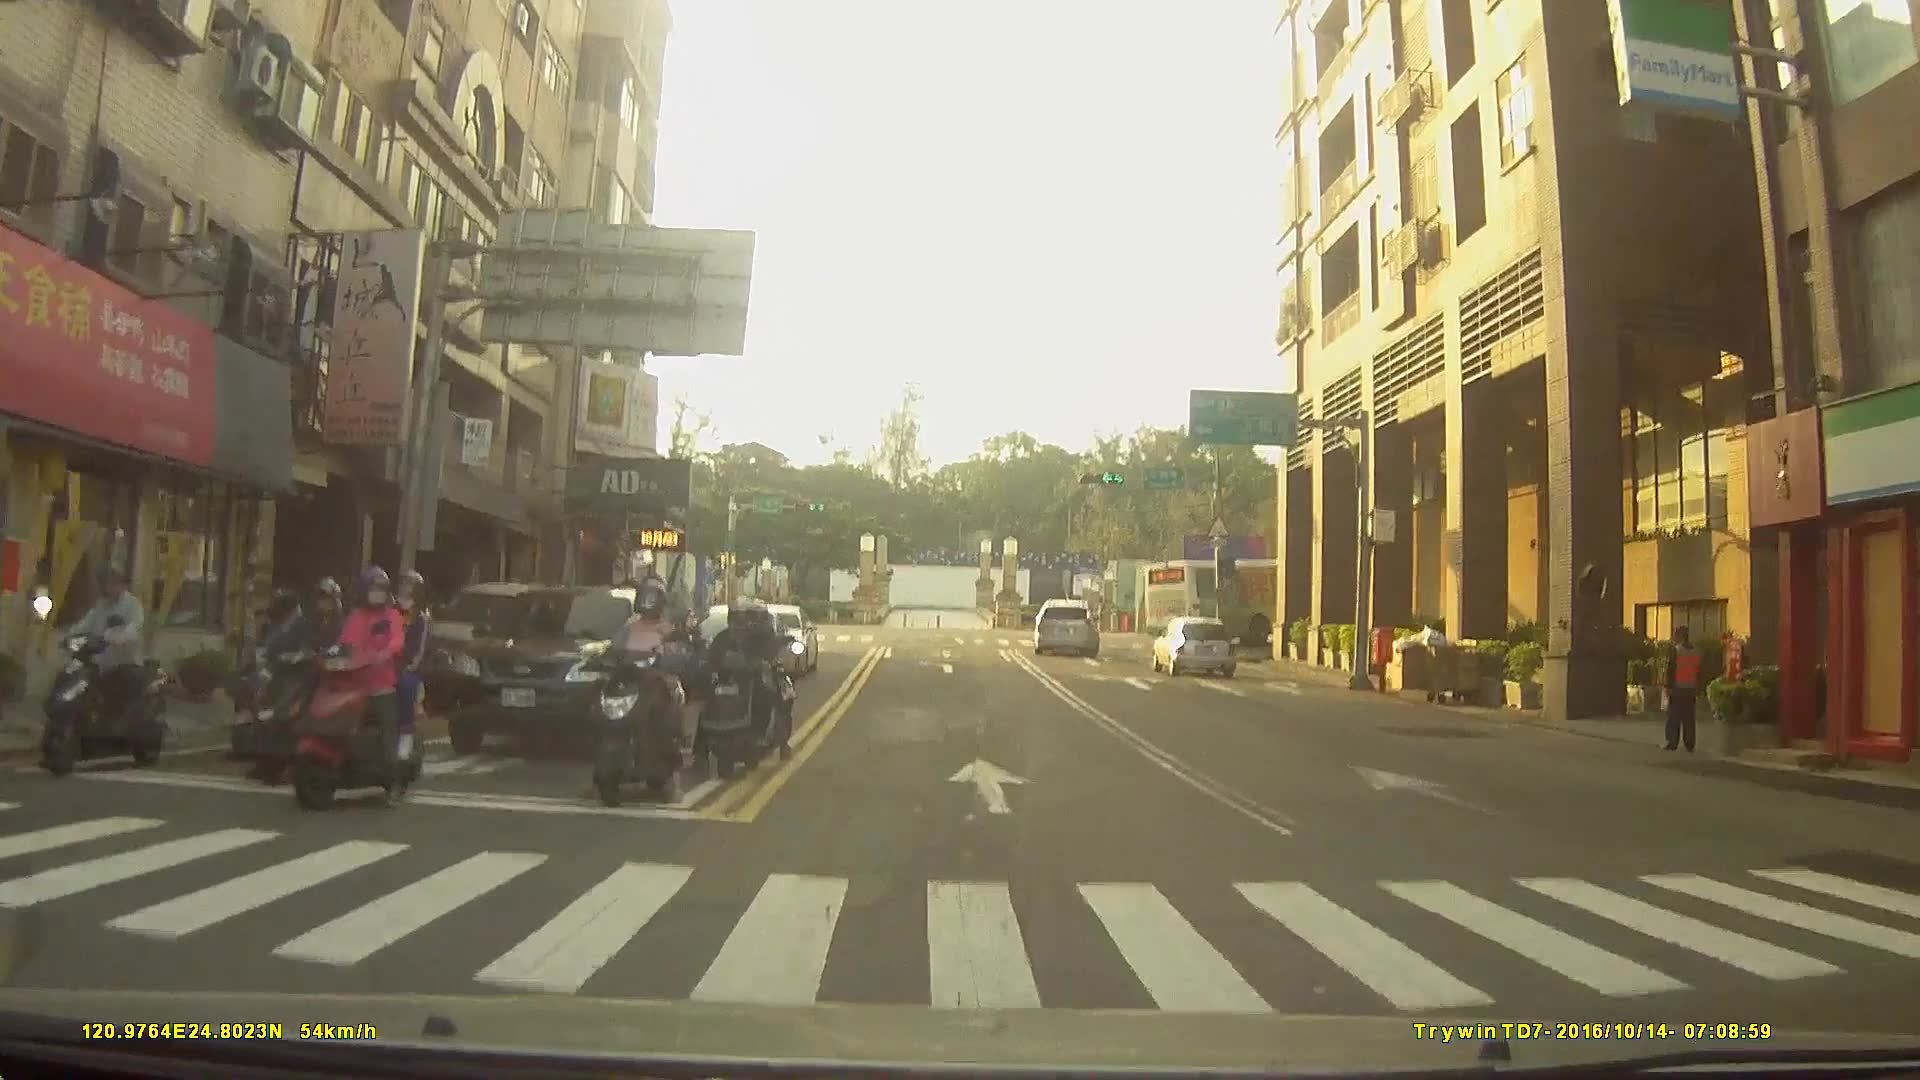pedestrian: (1651, 625, 1714, 760)
rider: (284, 565, 434, 812), (33, 559, 164, 779), (581, 579, 702, 809), (249, 577, 381, 783), (695, 599, 791, 787)
vehicle: (438, 584, 684, 758), (1140, 552, 1371, 645), (1148, 618, 1235, 678), (1030, 599, 1101, 656)
